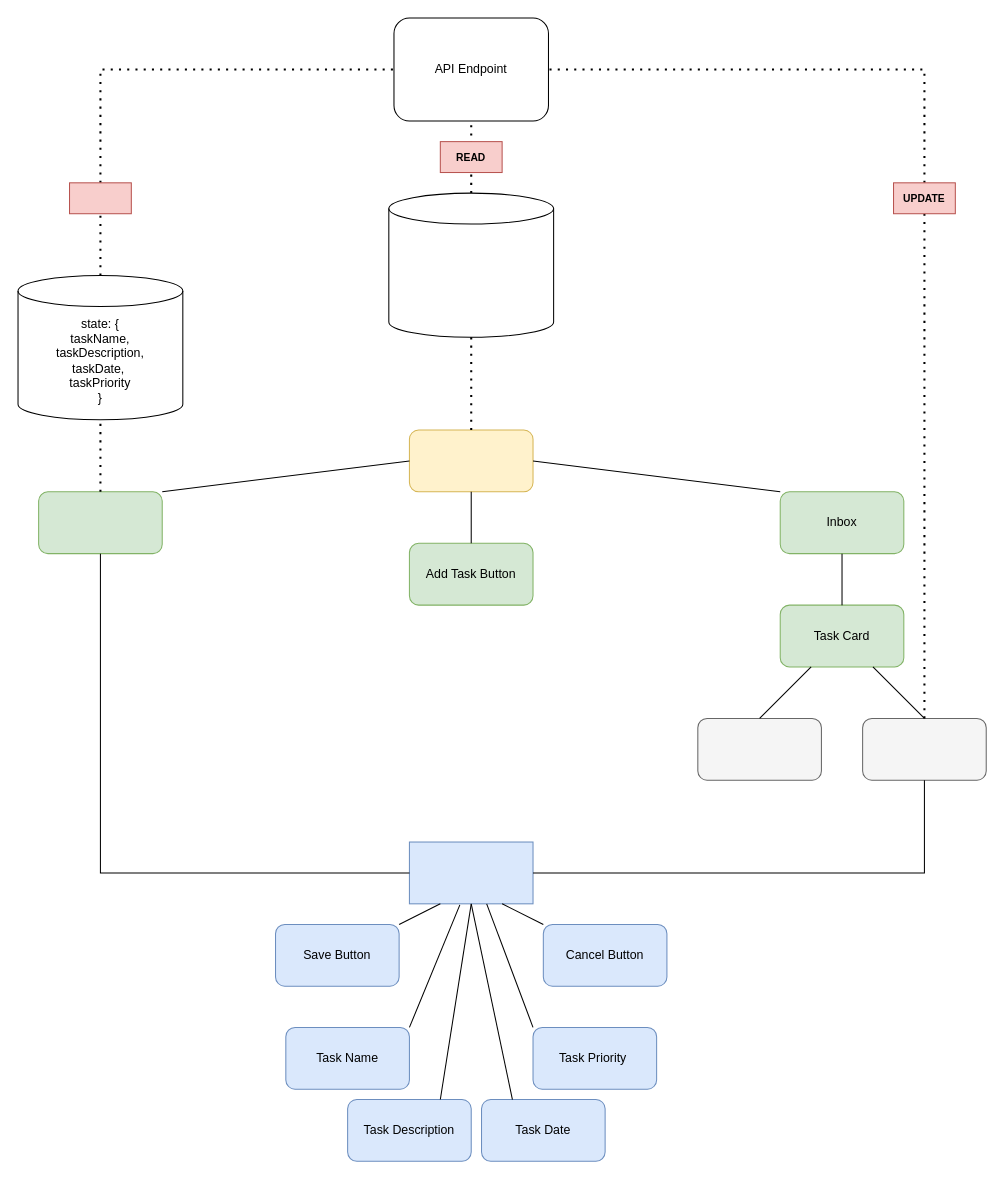
The diagram is 1004 pixels wide and 1179 high, and some of its shapes have lost their labels. The shapes that lost their labels are listed below. From the top down, each one's centre as x and y in pixels, then its label:
At point 99,198: "CREATE".
At point 471,264: "state: { taskList, viewForm }".
At point 470,460: "To-Do-App".
At point 100,522: "Task Form".
At point 759,748: "Complete Task Button".
At point 924,748: "Edit Task Form".
At point 470,872: "Shared Components".
